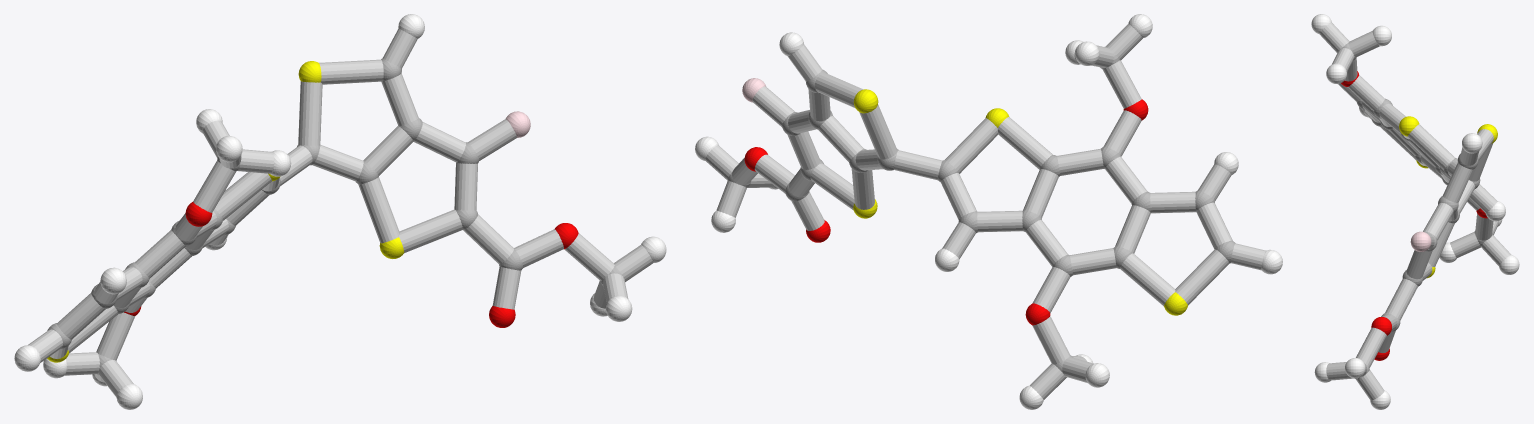
Rendered from Dimethoxy_Benzodithiophene_Phi_30_Theta_110_Methylcarbonyl_3_Fluoro_Thienothiophene.glb.
The picture shows the model from 3 angles, left to right: view 1: azimuth 30°, elevation 25°; view 2: azimuth 150°, elevation 25°; view 3: azimuth 270°, elevation 25°; orthographic projection. The views are drawn at different scales.
Parts seen in each view (by area): view 1: grp15205, grp8689, grp1, grp13395, grp7241; view 2: grp15205, grp8689, grp1, grp7241, grp13395; view 3: grp15205, grp8689, grp1, grp13395, grp7241, grp14843.
Boxes of the visible parts, x1,y1,x2,y2 form: grp15205: (28, 29, 653, 397); grp8689: (14, 14, 666, 409); grp1: (47, 58, 625, 374); grp13395: (124, 202, 578, 327); grp7241: (47, 61, 404, 362); grp15205: (705, 24, 1265, 399); grp8689: (695, 14, 1282, 409); grp1: (728, 46, 1235, 377); grp7241: (853, 89, 1187, 315); grp13395: (744, 99, 1148, 325); grp15205: (1319, 22, 1511, 400); grp8689: (1311, 14, 1519, 409); grp1: (1341, 43, 1493, 379); grp13395: (1341, 71, 1487, 360); grp7241: (1399, 116, 1497, 278); grp14843: (1410, 231, 1431, 251).
Bounding box in the file's own units: 16.6 × 8.32 × 6.02.
